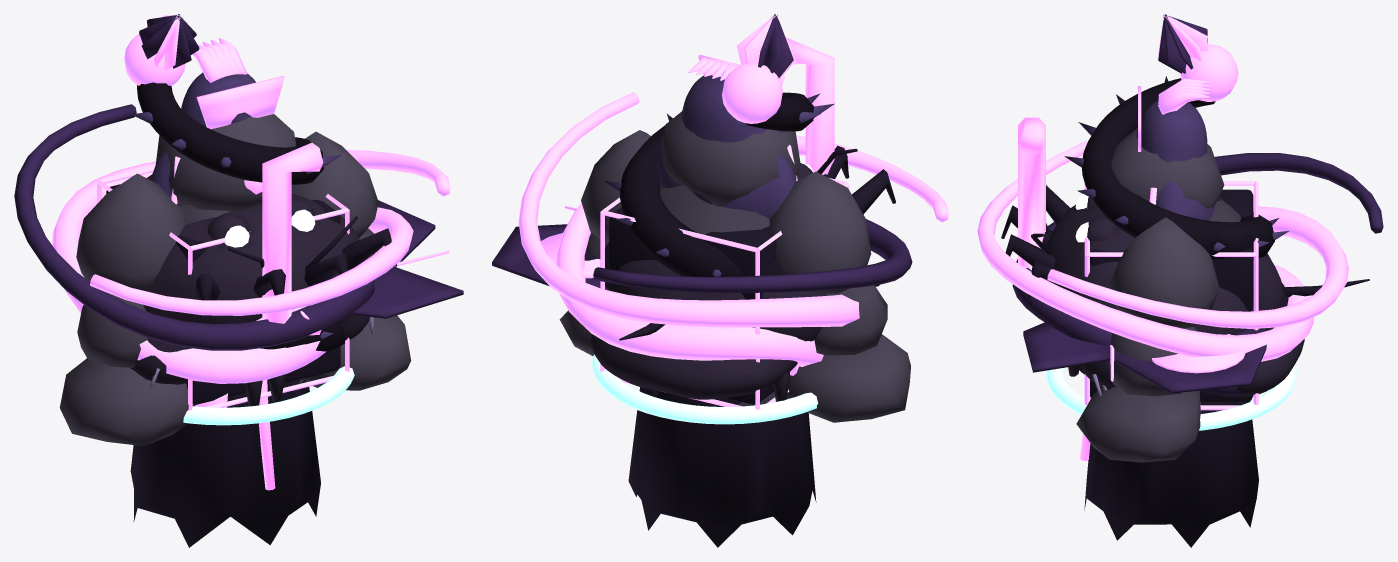
File: beasts_w234.glb
3 renders of one model, left to right at view 1: azimuth 30°, elevation 25°; view 2: azimuth 150°, elevation 25°; view 3: azimuth 270°, elevation 25°, orthographic. The views are drawn at different scales.
Visible parts, largest first — view 1: quarry_golem, gale, seam_wraith, bog, vine_choker, twist_thief, echo, cube_sentry, moth_wing, fiber_wraith, moth; view 2: quarry_golem, gale, seam_wraith, vine_choker, bog, echo, cube_sentry, twist_thief, fiber_wraith, moth_wing; view 3: gale, quarry_golem, seam_wraith, vine_choker, bog, moth_wing, echo, twist_thief, cube_sentry, fiber_wraith.
Part boxes in pixels (x1,y1,x2,y2): quarry_golem: [59, 114, 411, 445]; gale: [14, 104, 450, 407]; seam_wraith: [130, 317, 373, 547]; bog: [130, 193, 369, 406]; vine_choker: [124, 14, 344, 354]; twist_thief: [195, 142, 396, 335]; echo: [150, 38, 284, 206]; cube_sentry: [97, 166, 349, 410]; moth_wing: [350, 200, 463, 318]; fiber_wraith: [183, 366, 354, 425]; moth: [227, 216, 357, 271]; quarry_golem: [559, 111, 910, 422]; gale: [518, 92, 948, 366]; seam_wraith: [628, 191, 816, 547]; vine_choker: [603, 14, 834, 276]; bog: [591, 162, 825, 401]; echo: [655, 55, 797, 219]; cube_sentry: [600, 178, 849, 409]; twist_thief: [786, 37, 895, 286]; fiber_wraith: [592, 354, 818, 424]; moth_wing: [492, 206, 608, 290]; gale: [977, 141, 1383, 396]; quarry_golem: [1076, 128, 1240, 462]; seam_wraith: [1079, 198, 1258, 547]; vine_choker: [1064, 14, 1288, 374]; bog: [1046, 194, 1304, 396]; moth_wing: [1023, 322, 1266, 393]; echo: [1136, 78, 1215, 220]; twist_thief: [1001, 117, 1288, 308]; cube_sentry: [1084, 181, 1258, 410]; fiber_wraith: [1046, 365, 1296, 430].
Bounding box in the file's own units: 1.45 × 1.8 × 1.39.
